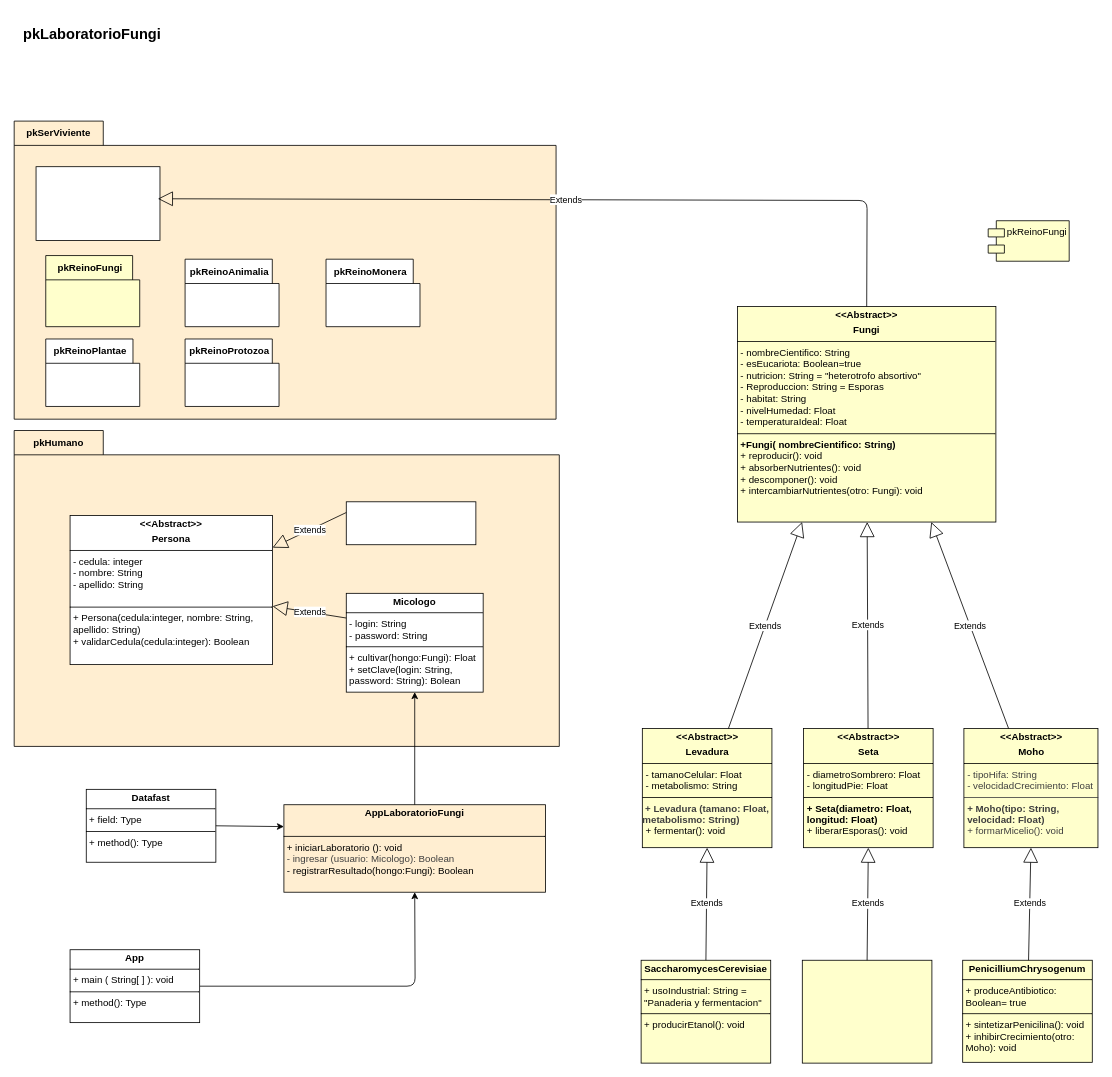
Image size: 1112x1077. Some labels were removed from this diagram. Here are the shapes that lost their labels. From the top down, the centre of each, then its label:
At (x=97, y=203): "<<Abstract>> SerVivo - estaVivo: Boolean = true".
At (x=410, y=523): "Recolector".
At (x=866, y=1011): "ChampinonComun + comestible: Boolean= true + cosechar(): void".
